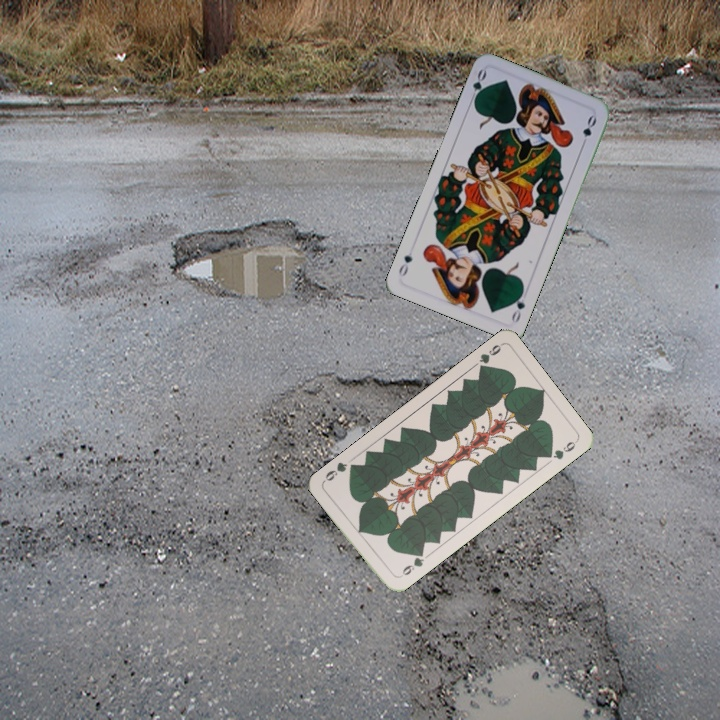G9: (394, 548, 427, 581), (475, 340, 504, 375)
GO: (466, 65, 489, 106), (507, 286, 528, 325)
